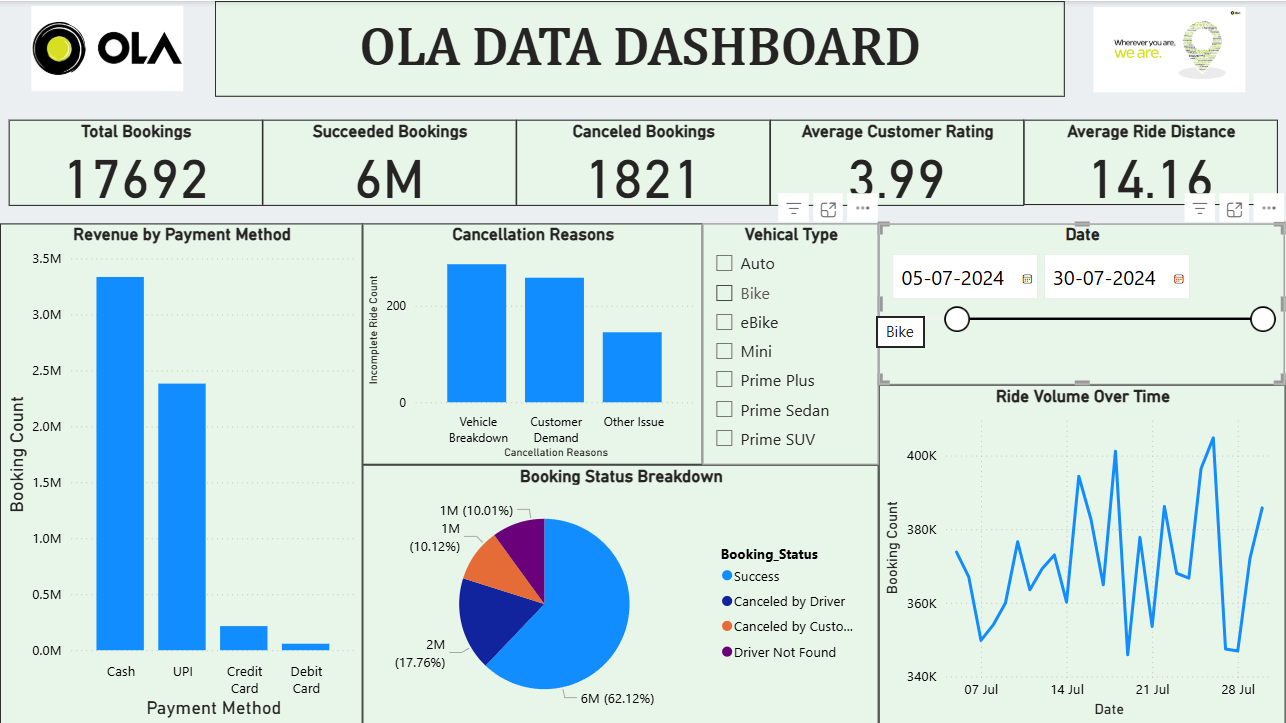

This screenshot's page, from the dashboard's own definition file:
{"tool":"powerbi","page":{"name":"Page 1","canvas":[1280,720],"ordinal":0},"visuals":[{"type":"card","title":"Succeeded Bookings","fields":{"Values":["Sum(Bookings-July.Booking_Value)"]},"box":[261.2,118.2,252.5,85.8],"z":0},{"type":"slicer","title":"Date","fields":{"Values":["Bookings-July.Date"]},"box":[874.5,221.4,404.3,160.5],"z":1000},{"type":"pieChart","title":"Booking Status Breakdown","fields":{"Y":["Sum(Bookings-July.Booking_Value)"],"Category":["Bookings-July.Booking_Status"]},"box":[360.7,461.5,513.8,258.7],"z":2000},{"type":"lineChart","title":"Ride Volume Over Time","fields":{"Y":["Sum(Bookings-July.Booking_Value)"],"Category":["Bookings-July.Date.Variation.Date Hierarchy.Year","Bookings-July.Date.Variation.Date Hierarchy.Quarter","Bookings-July.Date.Variation.Date Hierarchy.Month","Bookings-July.Date.Variation.Date Hierarchy.Day"]},"box":[875,382.5,405,337.5],"z":3000},{"type":"card","title":"Total Bookings","fields":{"Values":["CountNonNull(Bookings-July.Booking_ID)"]},"box":[8.7,118.2,252.5,85.8],"z":4000},{"type":"columnChart","title":"Revenue by Payment Method","fields":{"Category":["Bookings-July.Payment_Method"],"Y":["Sum(Bookings-July.Booking_Value)"]},"box":[0,221.4,360.7,498.8],"z":5000},{"type":"card","title":"Canceled Bookings","fields":{"Values":["CountNonNull(Bookings-July.Canceled_Rides_by_Customer)"]},"box":[513.8,118.2,252.5,85.8],"z":6000},{"type":"card","title":"Average Customer Rating","fields":{"Values":["Avg(Bookings-July.Customer_Rating)"]},"box":[766.3,118.2,252.5,85.8],"z":7000},{"type":"textbox","box":[213.9,0,845.6,94.9],"z":8000},{"type":"image","box":[0,0,213.9,94.9],"z":9000},{"type":"image","box":[1046.8,1.3,232.9,94.9],"z":10000},{"type":"lineStackedColumnComboChart","title":"Cancellation Reasons","fields":{"Category":["Bookings-July.Incomplete_Rides_Reason"],"Y":["CountNonNull(Bookings-July.Incomplete_Rides)"]},"box":[360.7,221.4,338.4,240.1],"z":11000},{"type":"slicer","title":"Vehical Type","fields":{"Values":["Bookings-July.Vehicle_Type"]},"box":[699.1,221.4,175.4,240.1],"z":12000},{"type":"card","title":"Average Ride Distance","fields":{"Values":["Avg(Bookings-July.Ride_Distance)"]},"box":[1018.8,118.2,252.5,84.6],"z":13000}]}

Visuals, with their boxes in screenshot pixels (x1, y1, x2, y2), scaled from the page's 1280x720 canvas onto the 1286x723 screenshot:
"Succeeded Bookings" card: 262 119 516 205
"Date" slicer: 879 222 1285 383
"Booking Status Breakdown" pieChart: 362 463 879 722
"Ride Volume Over Time" lineChart: 879 384 1285 722
"Total Bookings" card: 9 119 262 205
"Revenue by Payment Method" columnChart: 0 222 362 722
"Canceled Bookings" card: 516 119 770 205
"Average Customer Rating" card: 770 119 1024 205
textbox: 215 0 1064 95
image: 0 0 215 95
image: 1052 1 1285 97
"Cancellation Reasons" lineStackedColumnComboChart: 362 222 702 463
"Vehical Type" slicer: 702 222 879 463
"Average Ride Distance" card: 1024 119 1277 204
